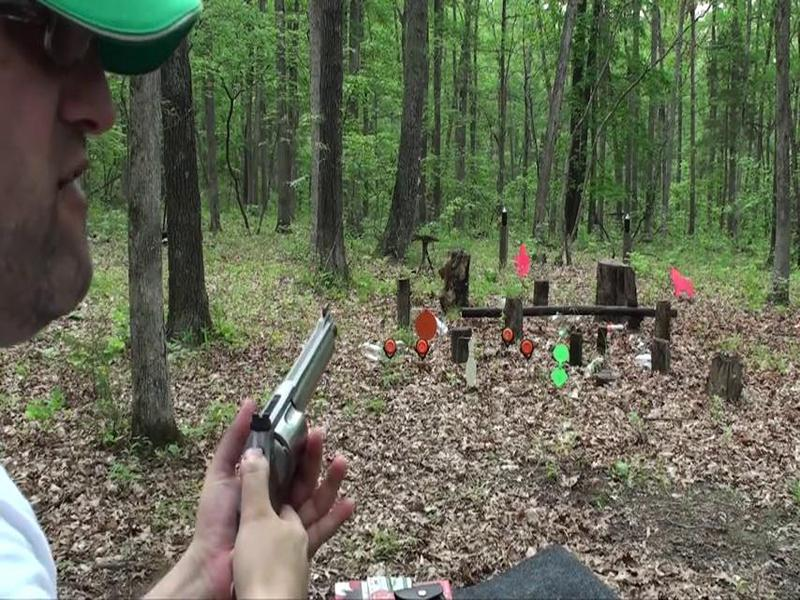Revolver: (225, 299, 360, 534)
